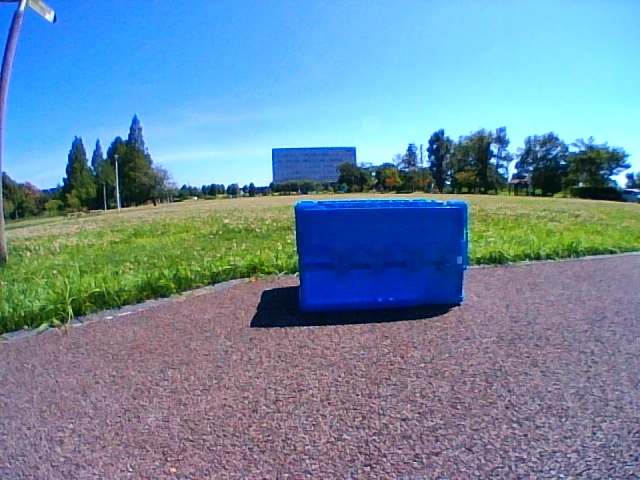blue_box: (295, 199, 467, 310)
